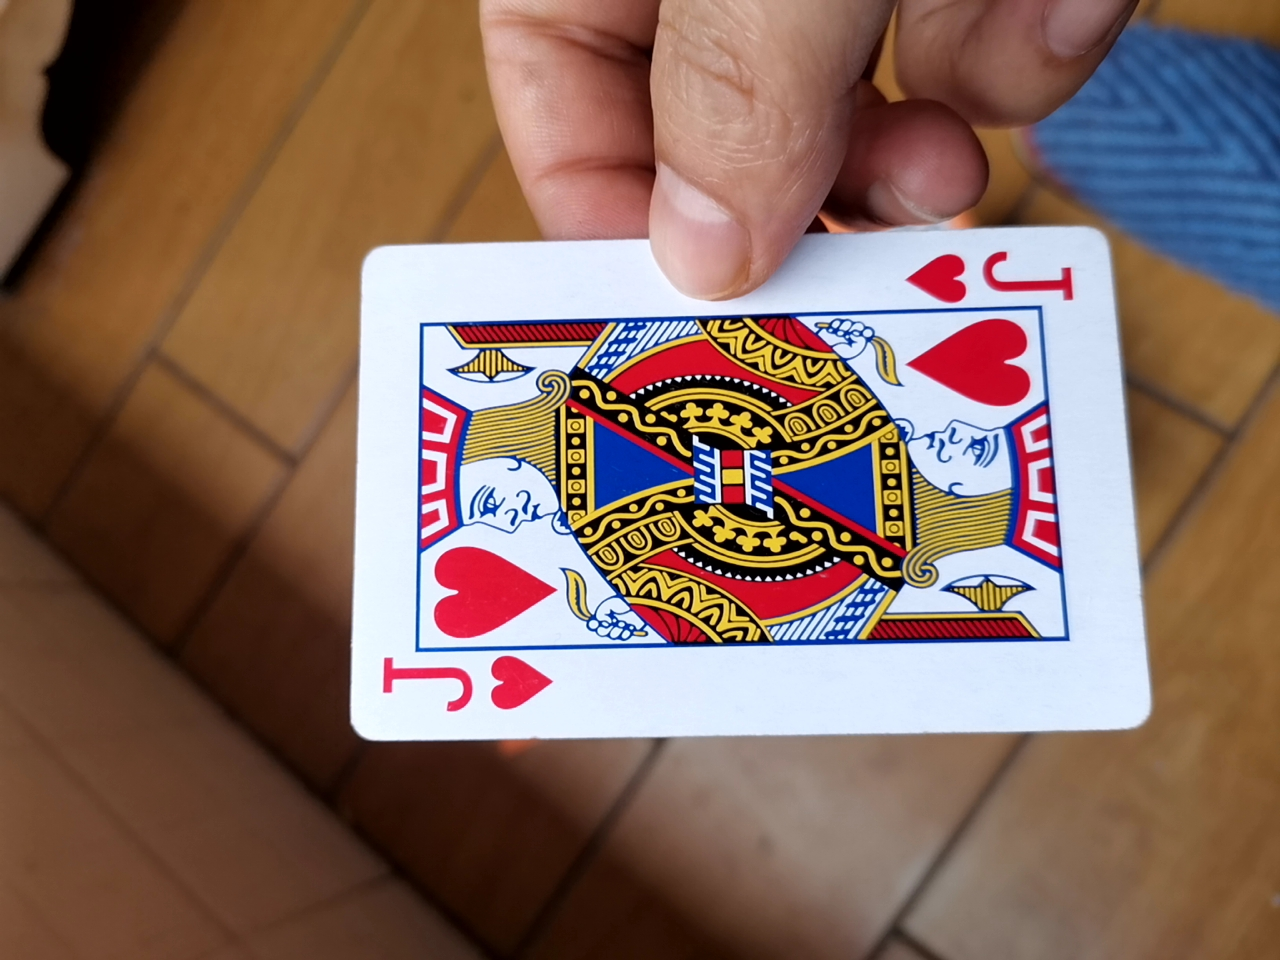hx j: (327, 220, 1135, 752)
